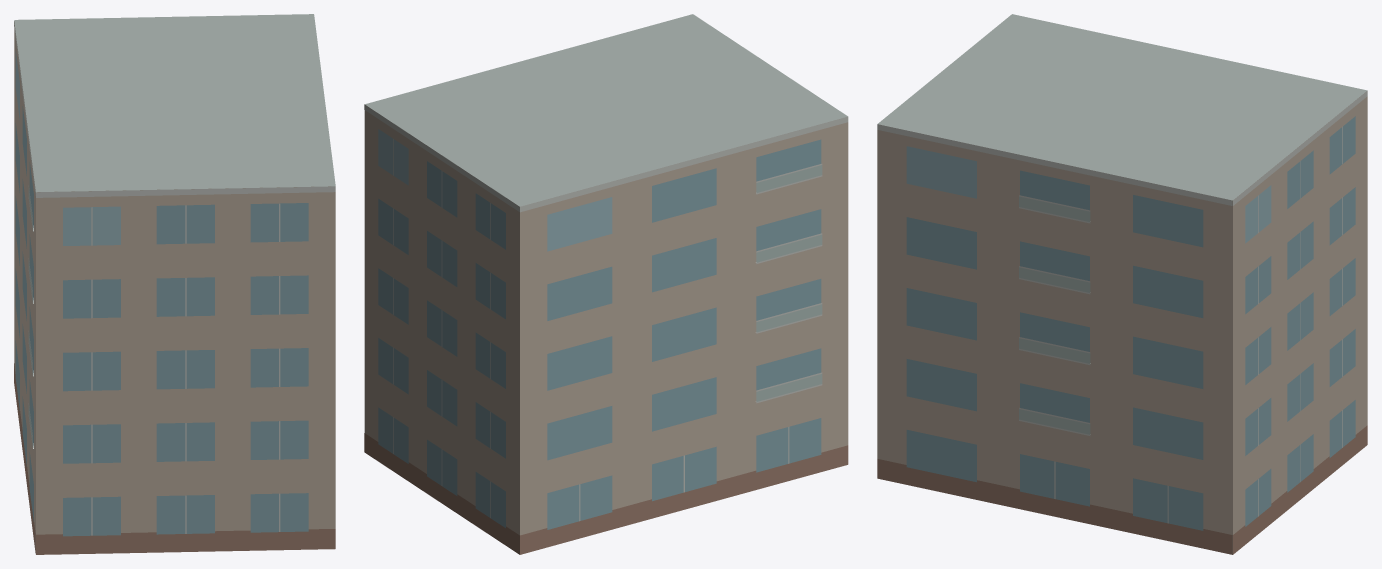
Rendered from survey-upis-32554876.glb.
The picture shows the model from 3 angles, left to right: view 1: azimuth 30°, elevation 25°; view 2: azimuth 150°, elevation 25°; view 3: azimuth 270°, elevation 25°; orthographic projection. The views are drawn at different scales.
Parts seen in each view (by area): view 1: survey-upis-32554876.tmp; view 2: survey-upis-32554876.tmp; view 3: survey-upis-32554876.tmp.
Boxes of the visible parts, box(x1,y1,x2,y2) form: survey-upis-32554876.tmp: box(14, 14, 335, 554); survey-upis-32554876.tmp: box(364, 14, 848, 554); survey-upis-32554876.tmp: box(877, 14, 1367, 554).
Size of the model in its own units: 17.22 by 15.25 by 19.13.
